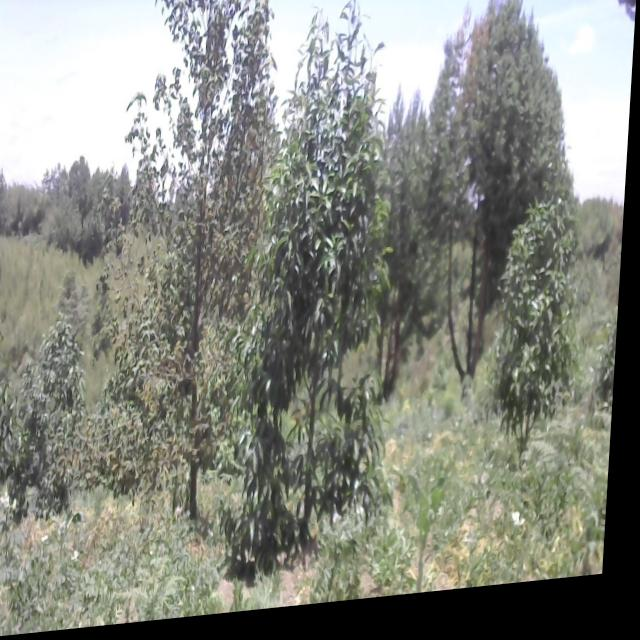Hass Avocado: (231, 0, 410, 577), (490, 204, 592, 468)
cedrus: (368, 108, 440, 402)
other: (96, 0, 274, 517), (437, 0, 573, 373), (19, 321, 88, 508), (0, 273, 20, 584)
